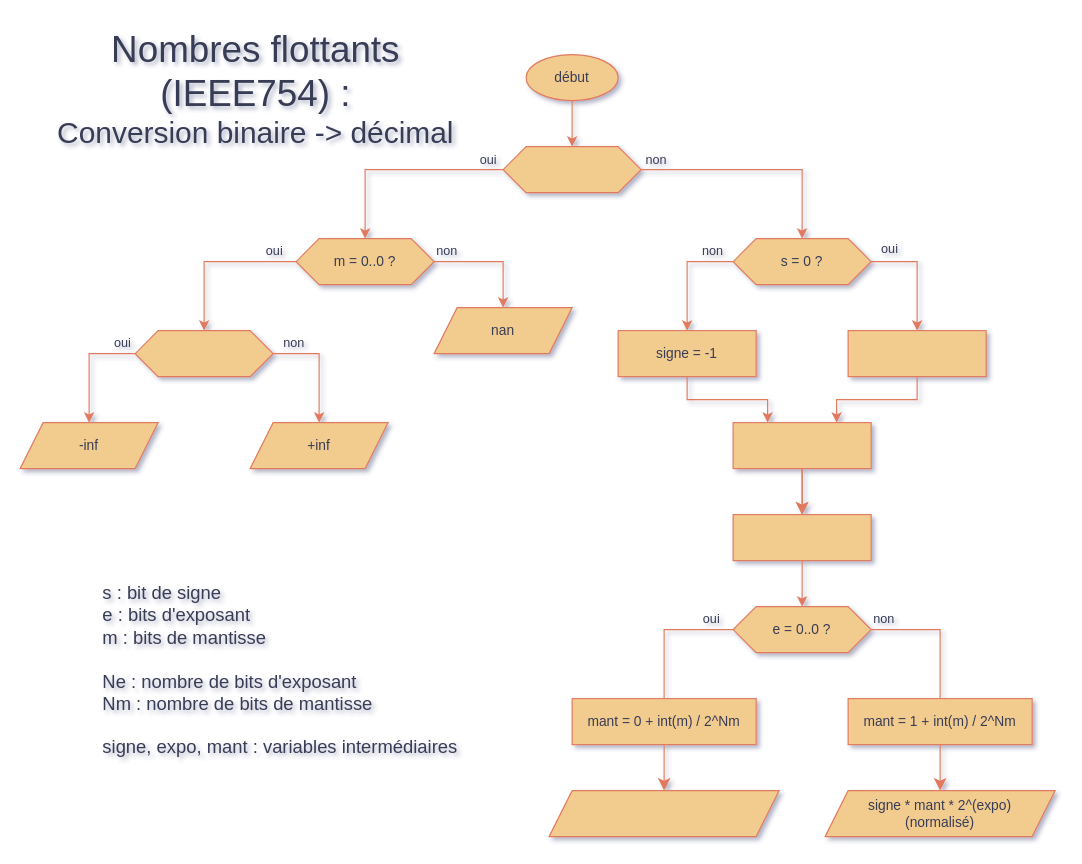
Some shapes in this 1082 by 864 pixel diagram are drawn without their labels. The shapes that lost their labels are listed below. From the top down, each one's centre as x and y in pixels, then its label:
(571,169): e = 1..1 ?
(203,353): s = 1 ?
(916,353): signe = +1
(801,445): biais = 2^(Ne-1) - 1
(801,537): expo = int(e) - biais
(663,813): signe * mant * 2^(expo+1) (dénormalisé)
